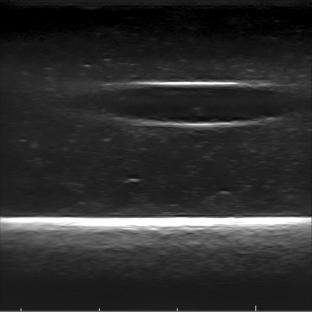vessel: (91, 82, 292, 130)
